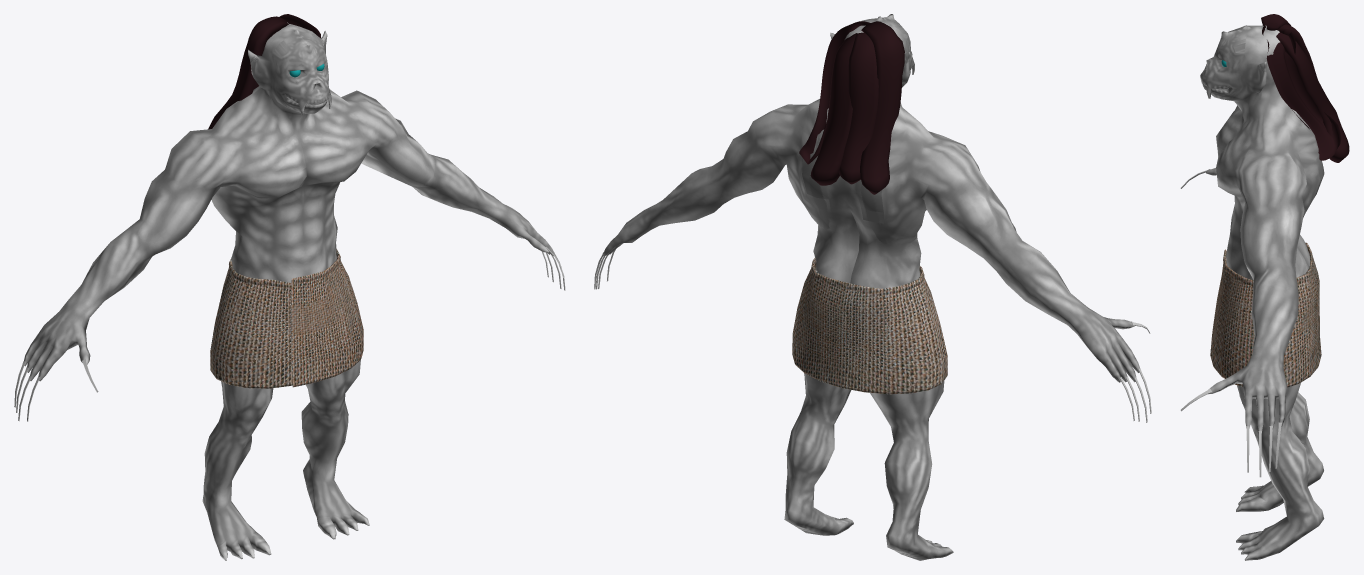
Rendered from Ghol.fbx.
3 renders of one model, left to right at view 1: azimuth 30°, elevation 25°; view 2: azimuth 150°, elevation 25°; view 3: azimuth 270°, elevation 25°, orthographic. The views are drawn at different scales.
Parts seen in each view (by area): view 1: Gargoyle_1, pTorus1, Head2_HairBand06; view 2: Gargoyle_1, pTorus1, Head2_HairBand06, Head2_HairBand07, Head2_HairBand08, Head2_HairBand04; view 3: Gargoyle_1, pTorus1, Head2_HairBand04, Head2_HairBand08, Head2_HairBand07, Head2_HairBand06.
Part boxes in pixels (x1,y1,x2,y2): Gargoyle_1: [24, 22, 554, 560]; pTorus1: [210, 248, 363, 388]; Head2_HairBand06: [208, 16, 288, 129]; Gargoyle_1: [603, 14, 1139, 560]; pTorus1: [792, 258, 947, 394]; Head2_HairBand06: [860, 21, 904, 194]; Head2_HairBand07: [838, 32, 878, 184]; Head2_HairBand08: [810, 33, 857, 185]; Head2_HairBand04: [799, 21, 870, 164]; Gargoyle_1: [1200, 25, 1324, 560]; pTorus1: [1210, 242, 1321, 387]; Head2_HairBand04: [1262, 23, 1341, 160]; Head2_HairBand08: [1276, 32, 1349, 162]; Head2_HairBand07: [1277, 24, 1316, 76]; Head2_HairBand06: [1261, 14, 1290, 30].
Size of the model in its own units: 178 by 163 by 49.24.
5 materials, 2 textured.
